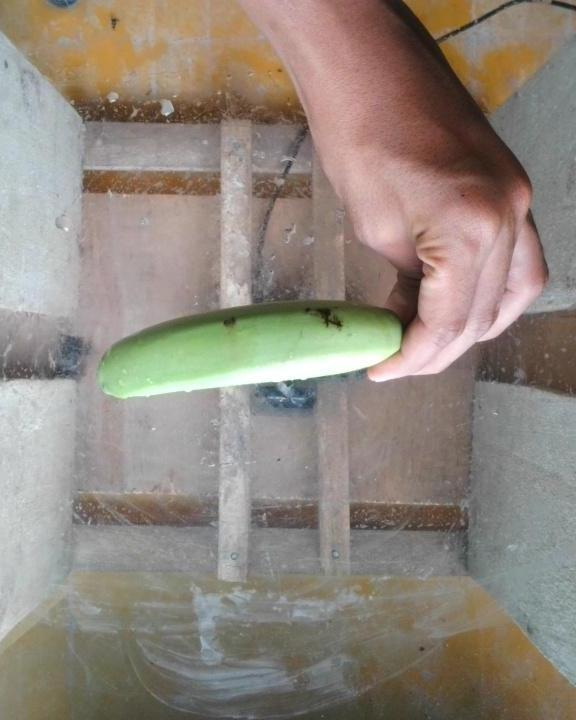CLASS B: (71, 280, 427, 408)
Class A: (301, 301, 360, 342), (215, 306, 255, 340)
